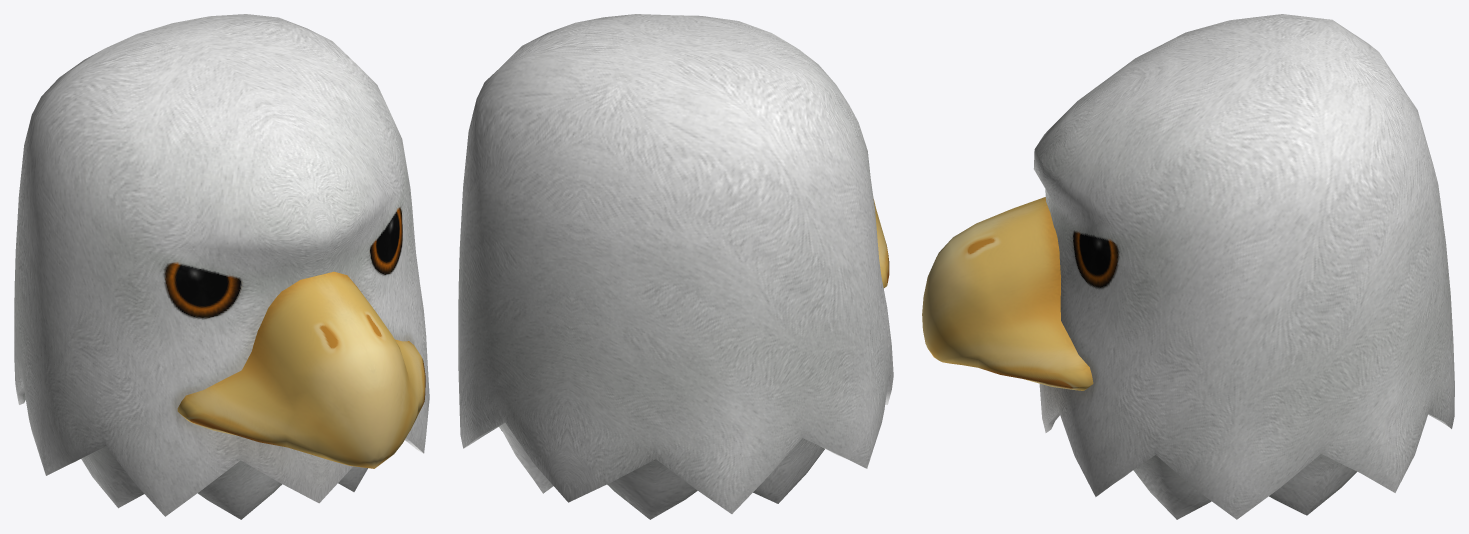
The model's file is CRT0110009.FBX.
The picture shows the model from 3 angles, left to right: view 1: azimuth 30°, elevation 25°; view 2: azimuth 150°, elevation 25°; view 3: azimuth 270°, elevation 25°; orthographic projection. The views are drawn at different scales.
Parts seen in each view (by area): view 1: smCRT0110009; view 2: smCRT0110009; view 3: smCRT0110009.
Boxes of the visible parts, x1,y1,x2,y2 form: smCRT0110009: (14,14,429,519); smCRT0110009: (458,14,893,519); smCRT0110009: (922,14,1454,519).
Size of the model in its own units: 0.0601 by 0.0626 by 0.0747.
Materials: 1 (1 with a texture image).
